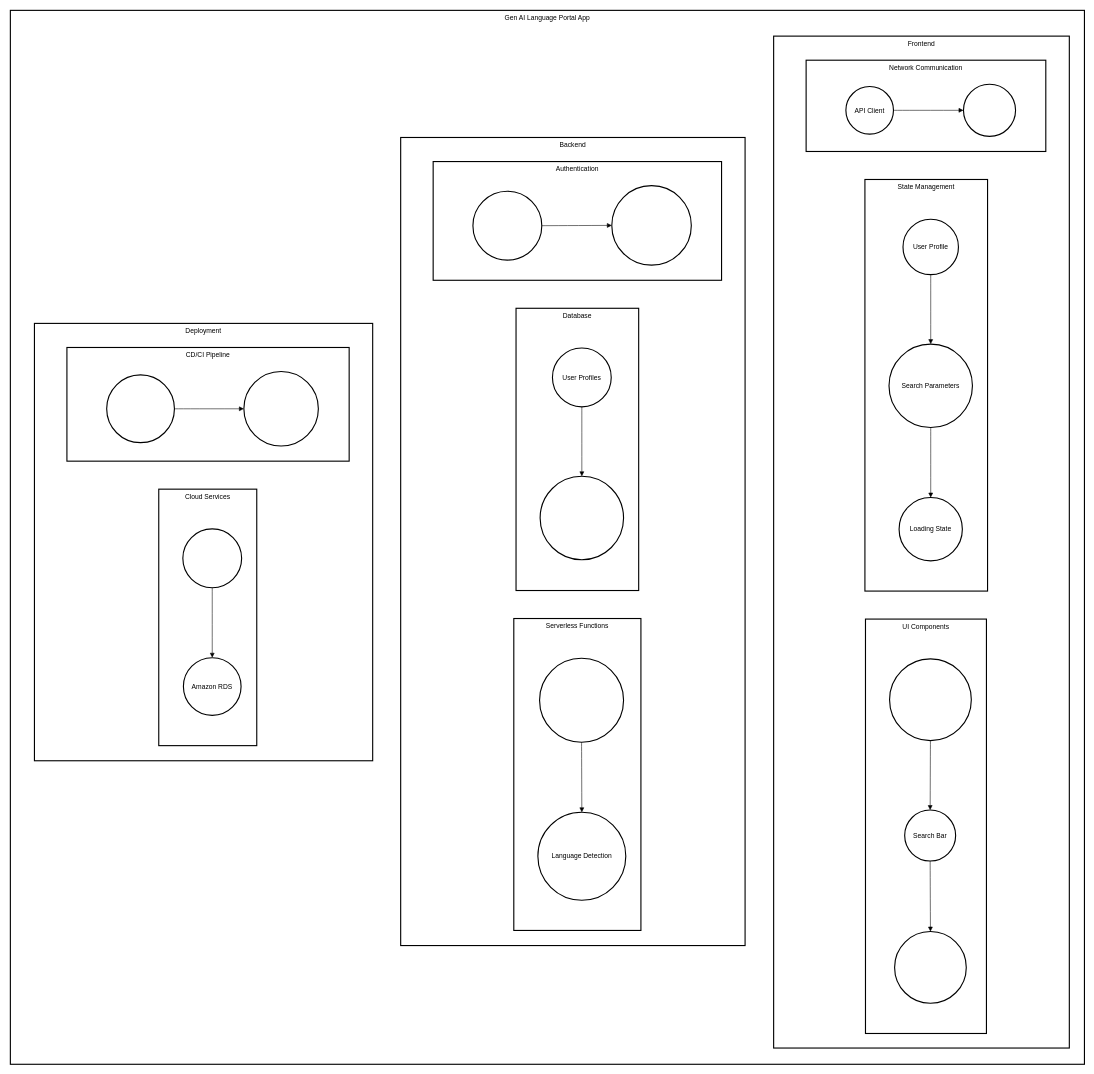
The diagram is 1094 pixels wide and 1074 high, and some of its shapes have lost their labels. Each missing label, with the centre of its shape:
AWS Lambda: the point at 212,558
Content Display: the point at 930,967
Docker Compose: the point at 281,408
GitHub Actions: the point at 140,408
Language Selector: the point at 930,699
OAuth Provider: the point at 507,225
Translation History: the point at 581,517
Translation Service: the point at 581,700
User Management: the point at 651,225
WebSocket: the point at 989,110
